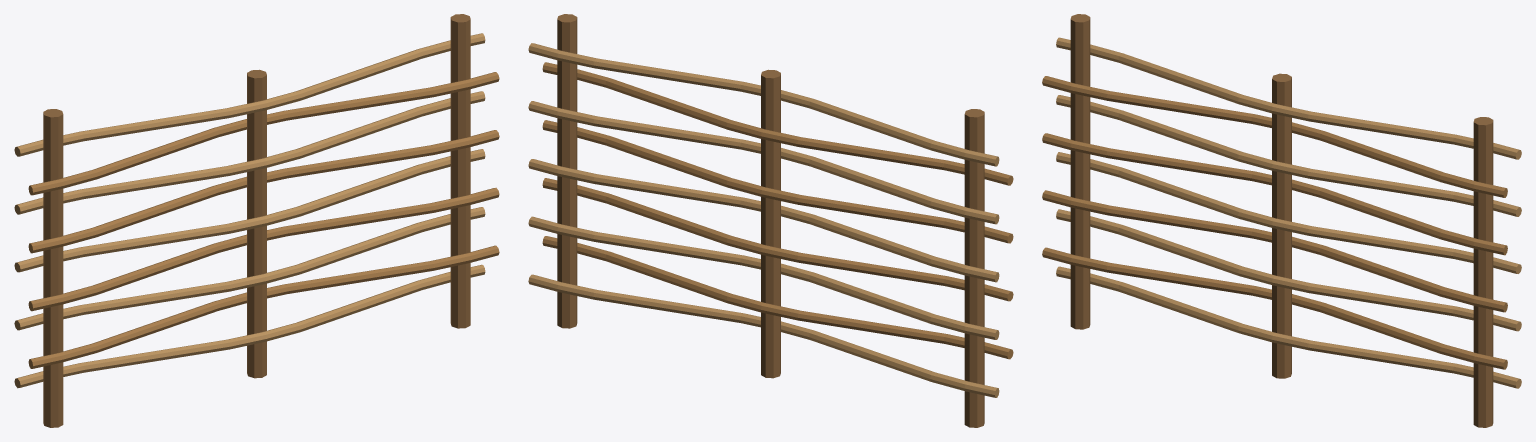
3 views of the same model, side by side, from view 1: azimuth 30°, elevation 25°; view 2: azimuth 150°, elevation 25°; view 3: azimuth 330°, elevation 25° (orthographic).
Parts seen in each view (by area): view 1: WholeUprightStake1, WholeUprightStake3, WholeUprightStake2, ContinuousAlternatingWovenBranch2, ContinuousAlternatingWovenBranch4, ContinuousAlternatingWovenBranch6, ContinuousAlternatingWovenBranch8, ContinuousAlternatingWovenBranch7, ContinuousAlternatingWovenBranch3, ContinuousAlternatingWovenBranch5, ContinuousAlternatingWovenBranch9, ContinuousAlternatingWovenBranch1; view 2: WholeUprightStake1, WholeUprightStake3, WholeUprightStake2, ContinuousAlternatingWovenBranch3, ContinuousAlternatingWovenBranch7, ContinuousAlternatingWovenBranch1, ContinuousAlternatingWovenBranch9, ContinuousAlternatingWovenBranch5, ContinuousAlternatingWovenBranch6, ContinuousAlternatingWovenBranch4, ContinuousAlternatingWovenBranch2, ContinuousAlternatingWovenBranch8; view 3: WholeUprightStake1, WholeUprightStake3, WholeUprightStake2, ContinuousAlternatingWovenBranch4, ContinuousAlternatingWovenBranch6, ContinuousAlternatingWovenBranch8, ContinuousAlternatingWovenBranch2, ContinuousAlternatingWovenBranch9, ContinuousAlternatingWovenBranch3, ContinuousAlternatingWovenBranch1, ContinuousAlternatingWovenBranch5, ContinuousAlternatingWovenBranch7.
Part boxes in pixels (<box>): WholeUprightStake1: <box>43,109,63,427</box>; WholeUprightStake3: <box>450,14,470,328</box>; WholeUprightStake2: <box>247,69,266,378</box>; ContinuousAlternatingWovenBranch2: <box>28,245,499,368</box>; ContinuousAlternatingWovenBranch4: <box>28,187,499,311</box>; ContinuousAlternatingWovenBranch6: <box>28,130,499,253</box>; ContinuousAlternatingWovenBranch8: <box>28,72,499,195</box>; ContinuousAlternatingWovenBranch7: <box>14,91,485,214</box>; ContinuousAlternatingWovenBranch3: <box>14,207,485,330</box>; ContinuousAlternatingWovenBranch5: <box>14,149,485,272</box>; ContinuousAlternatingWovenBranch9: <box>14,33,485,156</box>; ContinuousAlternatingWovenBranch1: <box>14,264,485,388</box>; WholeUprightStake1: <box>964,109,984,427</box>; WholeUprightStake3: <box>557,14,577,328</box>; WholeUprightStake2: <box>761,69,780,378</box>; ContinuousAlternatingWovenBranch3: <box>528,216,999,339</box>; ContinuousAlternatingWovenBranch7: <box>528,101,999,224</box>; ContinuousAlternatingWovenBranch1: <box>528,274,999,397</box>; ContinuousAlternatingWovenBranch9: <box>528,43,999,166</box>; ContinuousAlternatingWovenBranch5: <box>528,159,999,282</box>; ContinuousAlternatingWovenBranch6: <box>542,120,1013,243</box>; ContinuousAlternatingWovenBranch4: <box>542,178,1013,301</box>; ContinuousAlternatingWovenBranch2: <box>542,236,1013,359</box>; ContinuousAlternatingWovenBranch8: <box>542,62,1013,185</box>; WholeUprightStake1: <box>1070,14,1090,329</box>; WholeUprightStake3: <box>1473,117,1493,427</box>; WholeUprightStake2: <box>1272,73,1291,378</box>; ContinuousAlternatingWovenBranch4: <box>1042,190,1507,312</box>; ContinuousAlternatingWovenBranch6: <box>1042,133,1507,255</box>; ContinuousAlternatingWovenBranch8: <box>1042,76,1507,197</box>; ContinuousAlternatingWovenBranch2: <box>1042,247,1507,369</box>; ContinuousAlternatingWovenBranch9: <box>1056,37,1521,159</box>; ContinuousAlternatingWovenBranch3: <box>1056,209,1521,331</box>; ContinuousAlternatingWovenBranch1: <box>1056,266,1521,388</box>; ContinuousAlternatingWovenBranch5: <box>1056,152,1521,273</box>; ContinuousAlternatingWovenBranch7: <box>1056,95,1521,216</box>.
Size of the model in its own units: 1.6 by 1.02 by 0.12.
